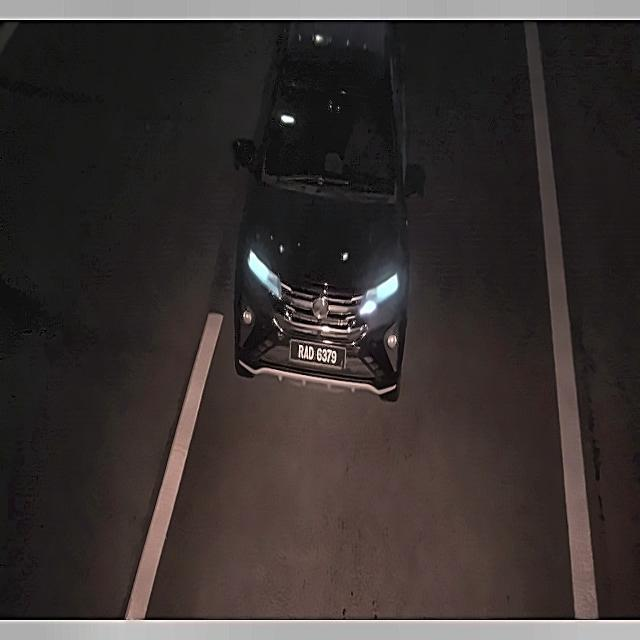car: (292, 338, 344, 375)
